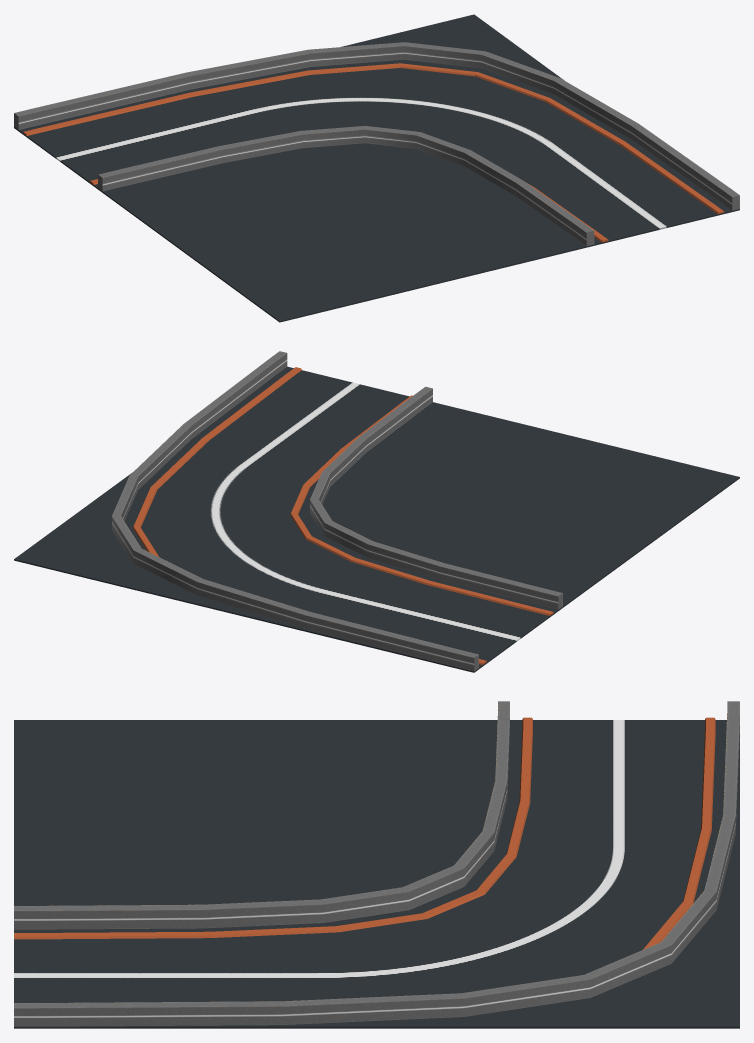
File: kartkids_base_trk_100_trn_widest_l_3x3.gltf
The picture shows the model from 3 angles, top to bottom: view 1: azimuth 30°, elevation 25°; view 2: azimuth 150°, elevation 25°; view 3: azimuth 270°, elevation 25°; orthographic projection. The views are drawn at different scales.
Parts seen in each view (by area): view 1: kartkids_base_trk_100_trn_widest_l_3x3.001, kartkids_base_trk_100_trn_widest_l_3x3.002, kartkids_base_trk_100_trn_widest_l_3x3.004, kartkids_base_trk_100_trn_widest_l_3x3.003; view 2: kartkids_base_trk_100_trn_widest_l_3x3.001, kartkids_base_trk_100_trn_widest_l_3x3.002, kartkids_base_trk_100_trn_widest_l_3x3.004, kartkids_base_trk_100_trn_widest_l_3x3.003; view 3: kartkids_base_trk_100_trn_widest_l_3x3.001, kartkids_base_trk_100_trn_widest_l_3x3.002, kartkids_base_trk_100_trn_widest_l_3x3.004, kartkids_base_trk_100_trn_widest_l_3x3.003.
Boxes of the visible parts, x1,y1,x2,y2 form: kartkids_base_trk_100_trn_widest_l_3x3.001: [14, 14, 739, 322]; kartkids_base_trk_100_trn_widest_l_3x3.002: [14, 42, 739, 210]; kartkids_base_trk_100_trn_widest_l_3x3.004: [98, 126, 594, 246]; kartkids_base_trk_100_trn_widest_l_3x3.003: [23, 63, 724, 242]; kartkids_base_trk_100_trn_widest_l_3x3.001: [14, 366, 739, 672]; kartkids_base_trk_100_trn_widest_l_3x3.002: [112, 351, 478, 671]; kartkids_base_trk_100_trn_widest_l_3x3.004: [310, 386, 562, 609]; kartkids_base_trk_100_trn_widest_l_3x3.003: [133, 367, 553, 664]; kartkids_base_trk_100_trn_widest_l_3x3.001: [14, 720, 739, 1028]; kartkids_base_trk_100_trn_widest_l_3x3.002: [14, 701, 739, 1026]; kartkids_base_trk_100_trn_widest_l_3x3.004: [14, 701, 509, 929]; kartkids_base_trk_100_trn_widest_l_3x3.003: [14, 717, 715, 949].
Bounding box in the file's own units: 30 × 0.9339 × 30.
2 materials, 2 textured.
